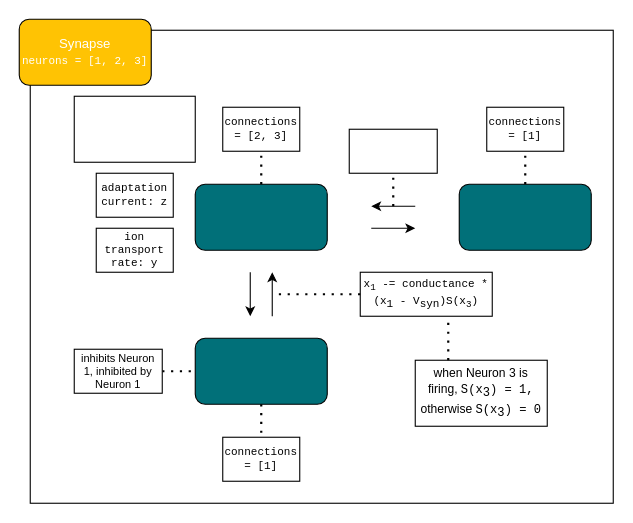
Image size: 633x523. Some labels were removed from this diagram. Here are the shapes that lost their labels. From the top down, the centre of each, then its label:
At (134,128): "membrane potential: x, based on y & z".
At (392,150): "arrows = inhibitory signals".
At (260,216): "HR Neuron id = 1".
At (524,216): "HR Neuron id = 2".
At (260,370): "HR Neuron id = 3".
